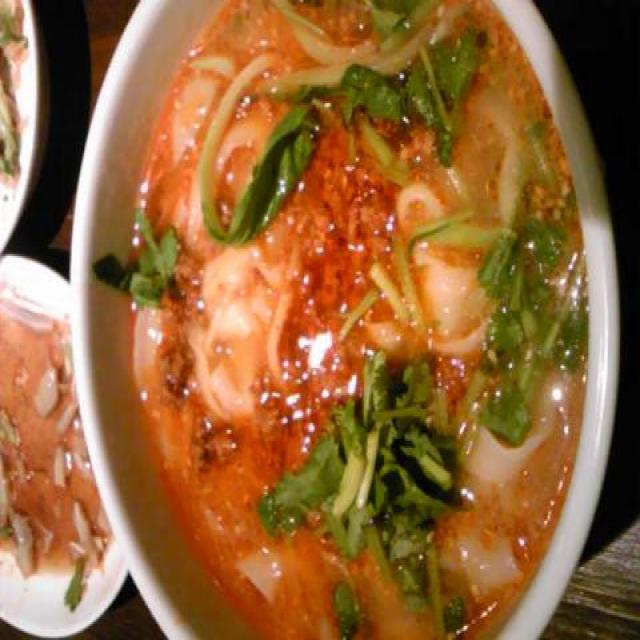面条主食: (54, 0, 558, 640)
